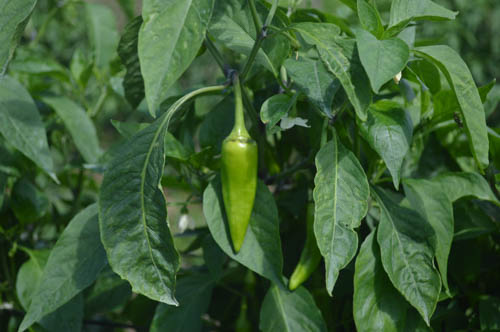ChiliPepper: (210, 129, 266, 255), (287, 197, 328, 292)
